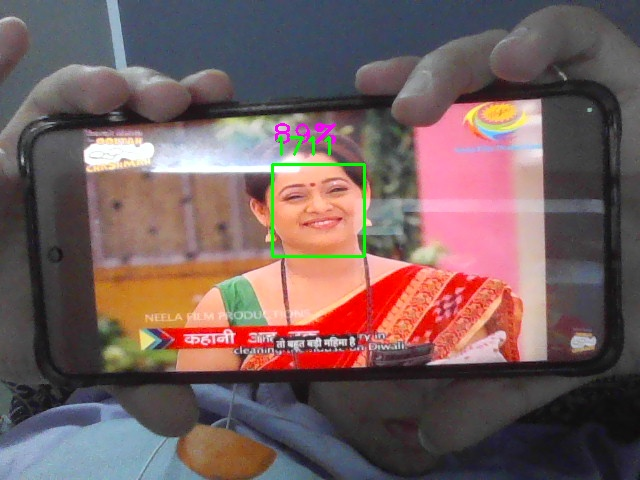fake: (272, 164, 365, 257)
